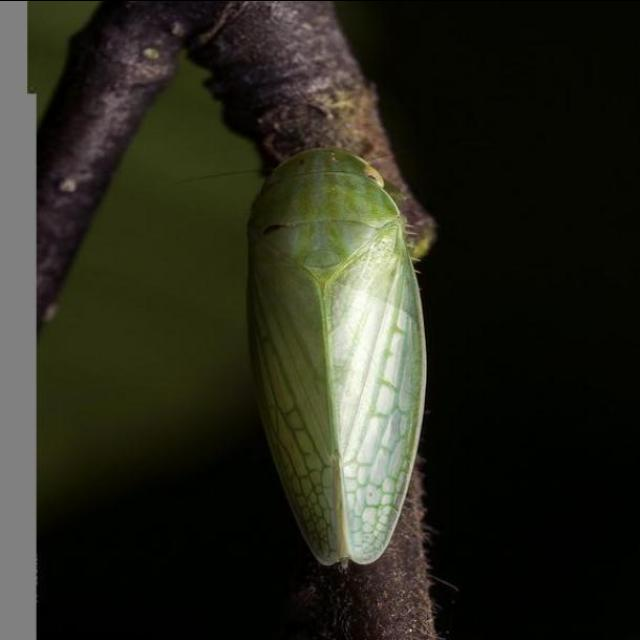green leaf hopper: (249, 147, 425, 562)
